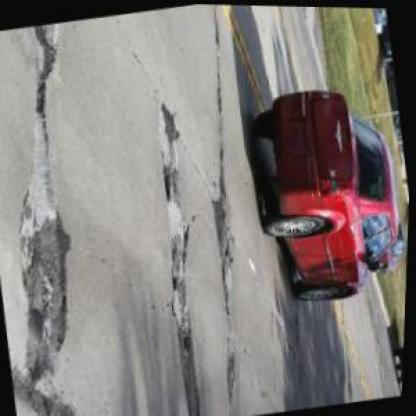pothole: (2, 202, 96, 380), (164, 268, 214, 414), (208, 192, 247, 292), (160, 161, 180, 200)
